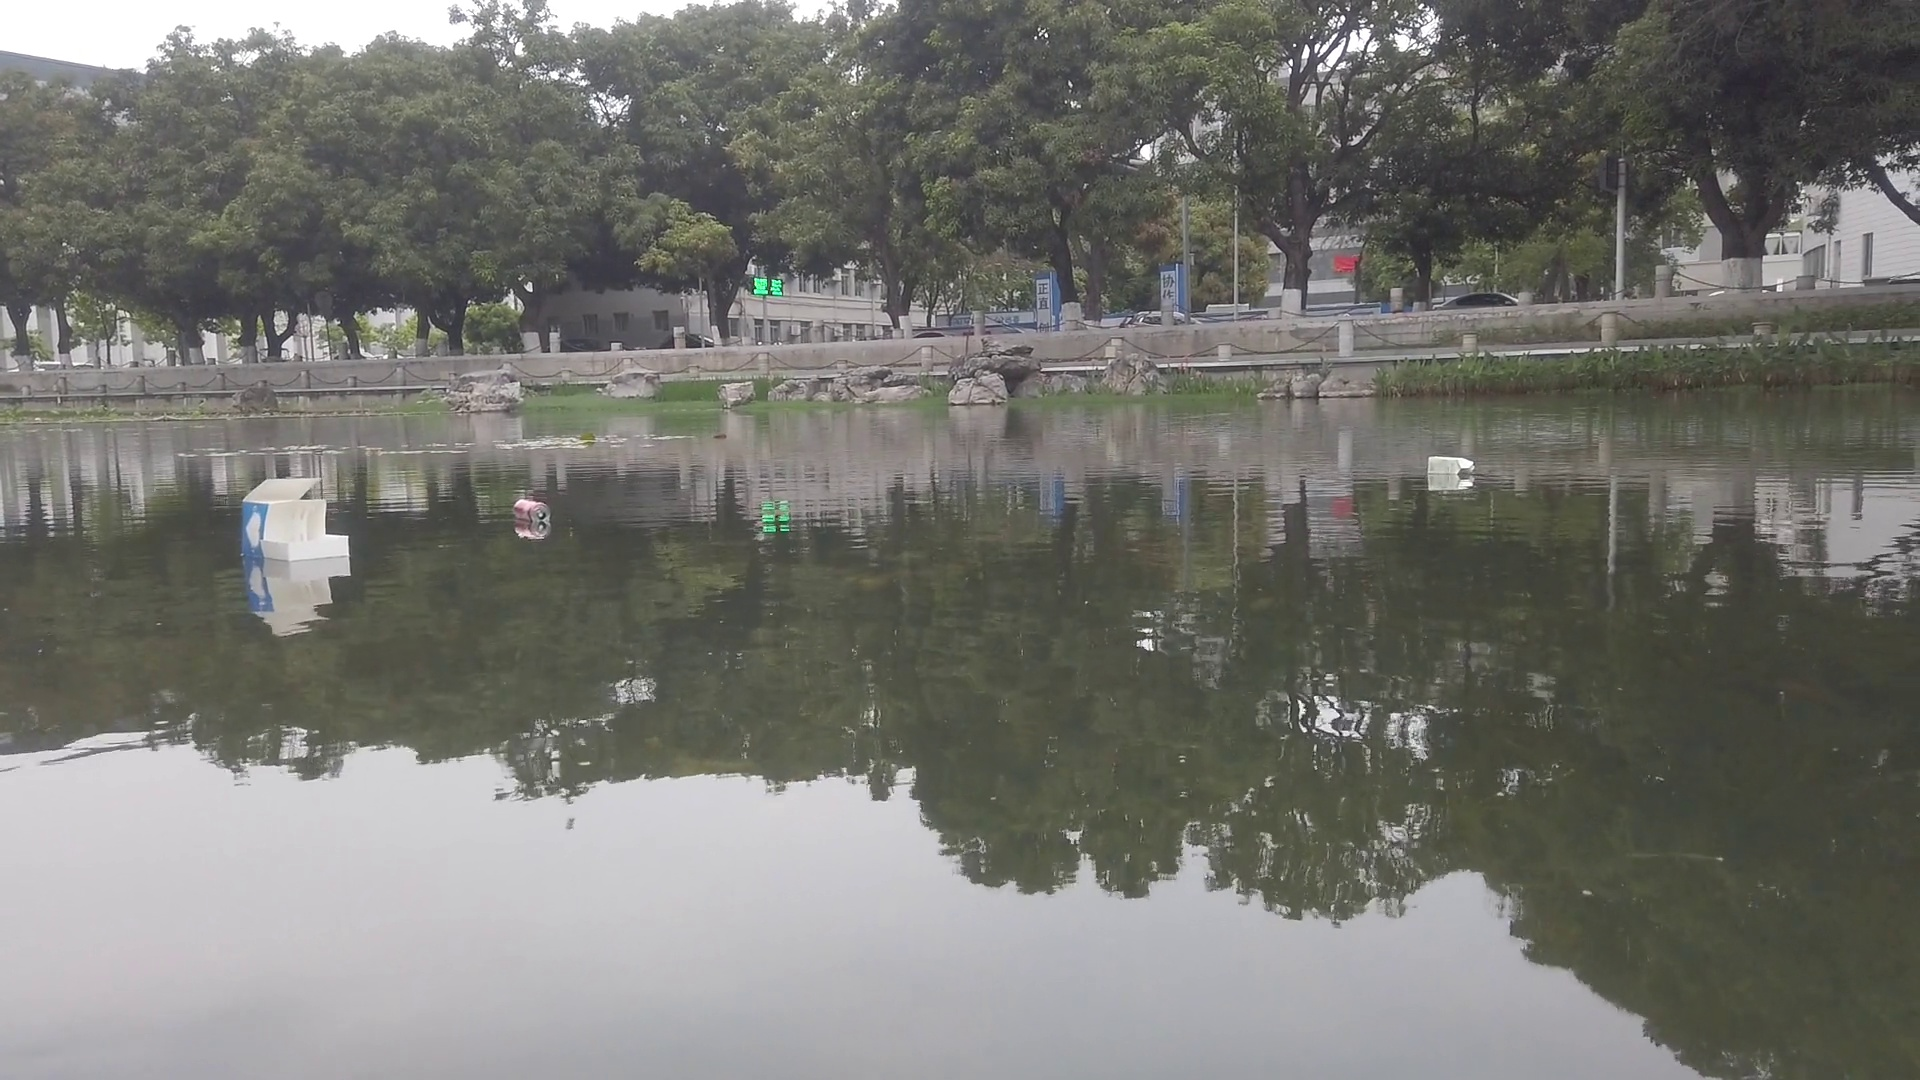bottle: (516, 495, 553, 521)
carton: (240, 475, 353, 562), (1429, 456, 1478, 476)
